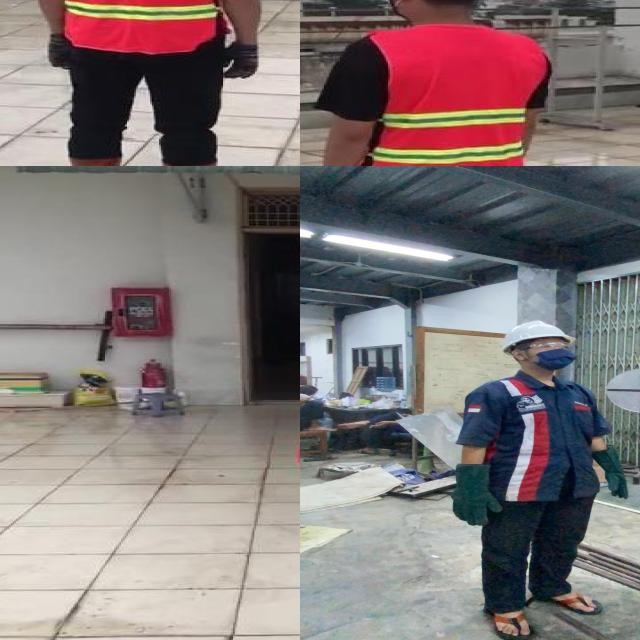face_mask: (530, 340, 580, 368)
glasses: (519, 341, 576, 352)
hand_glove: (445, 462, 508, 526), (593, 450, 638, 499), (35, 33, 79, 69), (224, 45, 258, 83)
head_helmet: (499, 319, 577, 346)
person: (454, 319, 625, 640), (305, 0, 557, 166), (22, 0, 267, 166), (300, 380, 334, 434)
vest: (354, 25, 546, 166), (45, 0, 226, 52)
